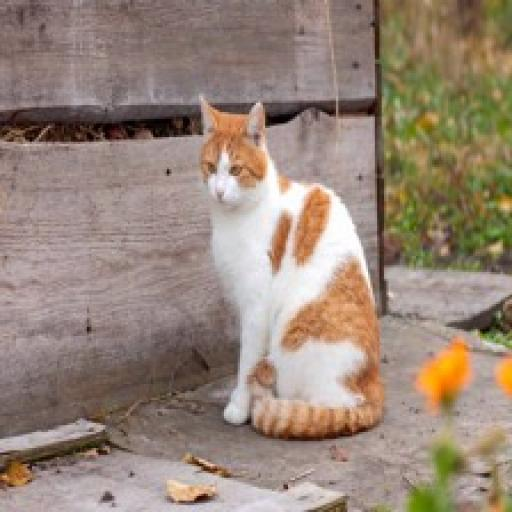cat: (186, 82, 389, 443)
